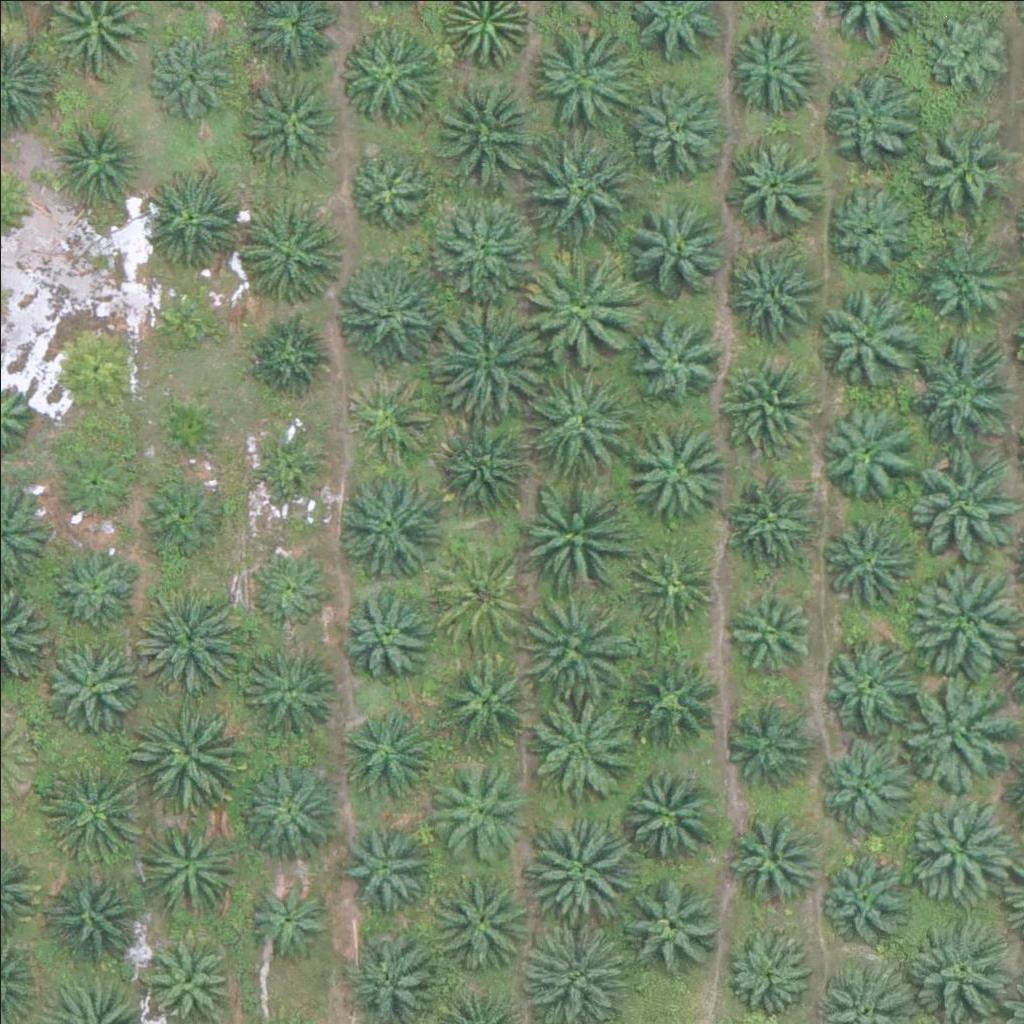Kelapa_Sawit: (527, 361, 640, 475), (518, 589, 631, 703), (522, 15, 635, 128), (523, 131, 636, 244), (134, 583, 247, 696), (133, 695, 246, 808), (524, 682, 637, 795), (518, 811, 631, 924), (910, 562, 1023, 675), (897, 678, 1010, 791), (906, 792, 1019, 905), (423, 193, 535, 307), (517, 486, 629, 600), (910, 335, 1022, 448), (526, 248, 638, 361), (436, 300, 548, 413), (431, 79, 543, 192), (333, 259, 445, 372), (36, 753, 148, 866), (334, 469, 446, 582), (904, 446, 1016, 559), (619, 873, 719, 974), (51, 866, 151, 967), (916, 235, 1016, 336), (913, 124, 1013, 225), (819, 401, 919, 502), (721, 133, 821, 234), (720, 357, 820, 458), (623, 306, 723, 407), (625, 196, 725, 297), (339, 29, 439, 130), (237, 65, 337, 166), (146, 167, 246, 268), (43, 633, 143, 734), (139, 814, 239, 915), (241, 754, 341, 855), (239, 641, 339, 742), (337, 582, 437, 683), (431, 764, 531, 865), (434, 654, 534, 755), (718, 469, 818, 570), (819, 636, 919, 737), (821, 510, 921, 611), (816, 842, 916, 942), (427, 872, 527, 972), (814, 283, 914, 383), (823, 66, 923, 166), (720, 18, 820, 118), (713, 247, 813, 347), (629, 416, 729, 516), (626, 79, 726, 179), (433, 412, 533, 512), (240, 204, 340, 304), (428, 546, 528, 646), (617, 764, 717, 864), (617, 650, 717, 750), (714, 699, 814, 799), (722, 808, 822, 908), (813, 735, 913, 835), (51, 325, 139, 414), (724, 933, 812, 1021), (147, 935, 235, 1023), (51, 439, 139, 527), (921, 5, 1009, 93), (246, 541, 334, 629), (343, 709, 431, 797), (344, 818, 432, 906), (630, 543, 718, 631), (728, 581, 816, 669), (50, 542, 137, 631), (248, 871, 335, 959), (344, 376, 431, 464), (827, 184, 914, 272), (340, 142, 427, 230), (245, 312, 332, 400), (147, 35, 234, 123), (53, 115, 140, 203), (141, 469, 228, 557), (153, 389, 228, 465), (149, 281, 224, 357), (247, 419, 322, 494)
